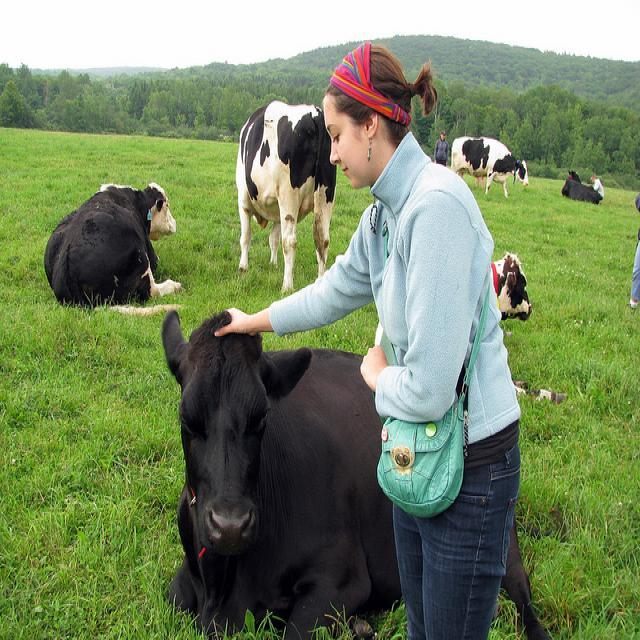cow: (160, 312, 546, 639), (235, 99, 337, 289), (44, 177, 184, 315), (490, 250, 566, 402), (449, 133, 527, 195), (560, 168, 602, 204)
